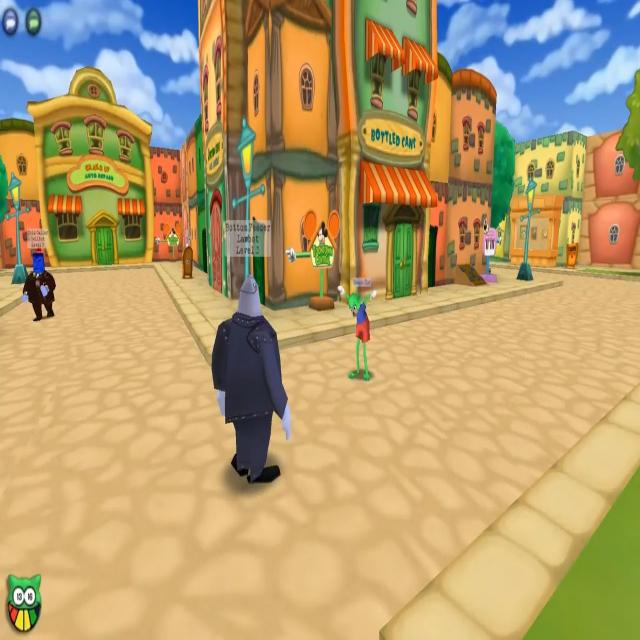bottomfeeder: (210, 220, 290, 474)
coldcaller: (23, 230, 58, 324)
